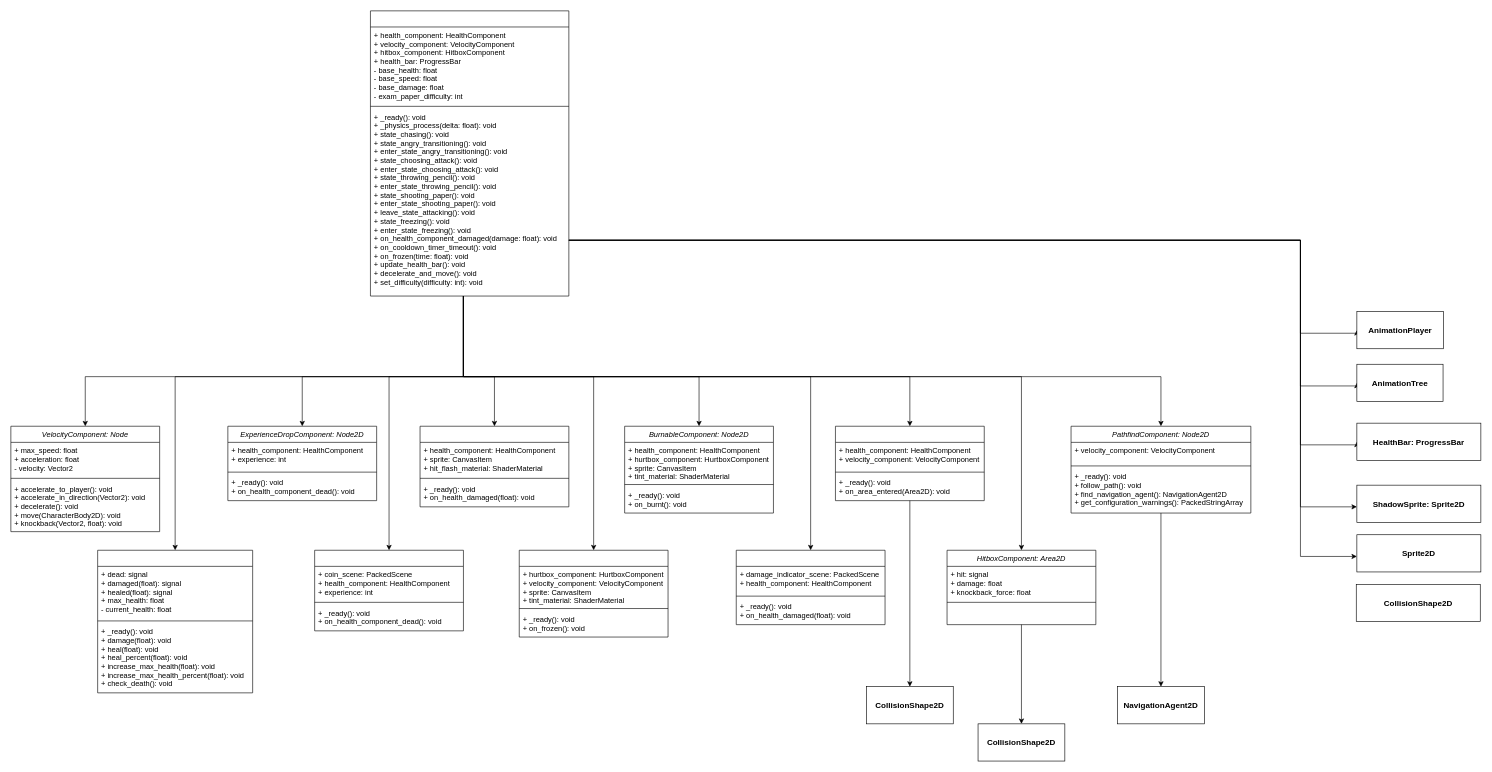
Some shapes in this 1492 by 772 pixel diagram are drawn without their labels. Here are the shapes that lost their labels. From the top down, the box of each, then its label:
(370, 10, 569, 296): Professor: CharacterBody2D
(419, 426, 569, 507): HitFlashComponent: Node2D
(835, 426, 984, 501): HurtboxComponent: Area2D
(314, 550, 463, 631): CoinDropComponent: Node2D
(519, 550, 668, 637): FreezableComponent: Node2D
(736, 550, 885, 625): DamageIndicatorComponent: Node2D
(97, 550, 253, 693): HealthComponent: Node2D
